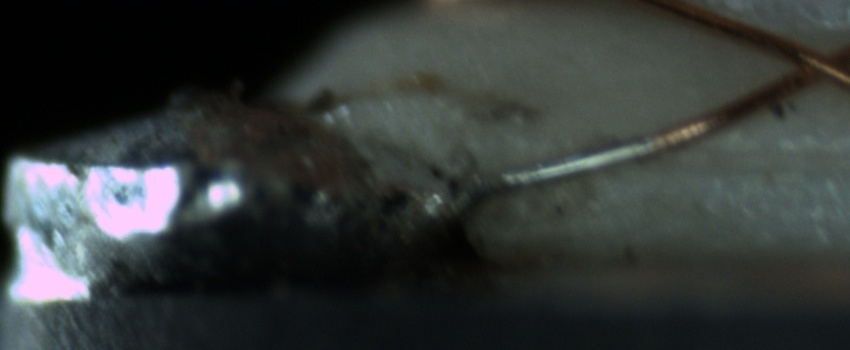CL: (768, 31, 849, 96)
DL: (636, 122, 846, 192)
TS: (448, 124, 662, 222)
